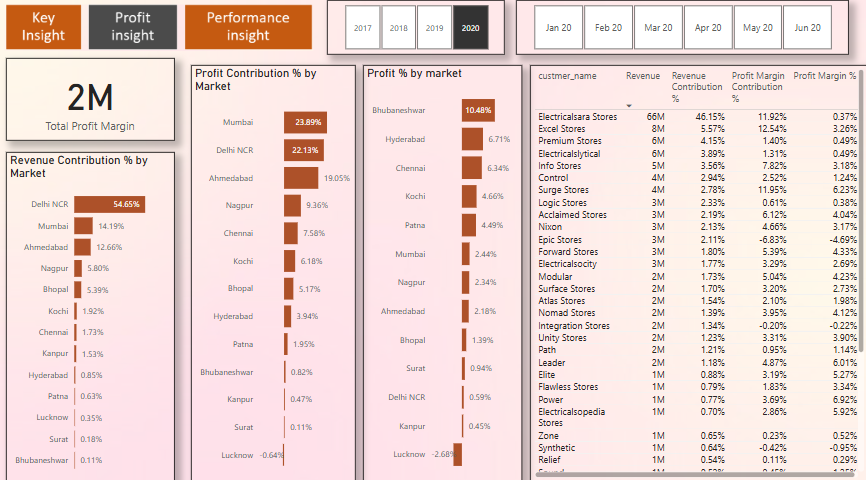

What the dashboard file says about the page in this screenshot:
{"tool":"powerbi","page":{"name":"Profit Analysis","canvas":[1280,720],"ordinal":1},"visuals":[{"type":"barChart","title":"Profit % by market","fields":{"Category":["sales markets.markets_name"],"Y":["BaseMeasure.Profit Margin %"]},"box":[541.5,109.8,232.7,610.2],"z":0},{"type":"barChart","title":"Profit Contribution % by Market","fields":{"Category":["sales markets.markets_name"],"Y":["BaseMeasure.Profit Margin Contribution %"]},"box":[289.8,109.8,241.5,610.2],"z":1000},{"type":"tableEx","title":"Top 5 Customers","fields":{"Values":["sales customers.custmer_name","BaseMeasure.Revenue","BaseMeasure.Revenue Contribution %","BaseMeasure.Profit Margin Contribution %","BaseMeasure.Profit Margin %"]},"box":[785.9,109.8,494.6,610.2],"z":2000},{"type":"card","fields":{"Values":["BaseMeasure.Total Profit Margin"]},"box":[19,99.5,247.3,121.5],"z":3000},{"type":"barChart","title":"Revenue Contribution % by Market","fields":{"Category":["sales markets.markets_name"],"Y":["BaseMeasure.Revenue Contribution %"]},"box":[19,237.1,247.3,482.9],"z":4000},{"type":"image","box":[11.7,10.2,462.4,89.3],"z":5000},{"type":"actionButton","box":[279.5,26.3,184.4,55.6],"z":6000},{"type":"actionButton","box":[19,26.3,109.8,55.6],"z":7000},{"type":"actionButton","box":[19,26.3,109.8,55.6],"z":8000},{"type":"slicer","fields":{"Values":["sales date.date.Variation.Date Hierarchy.Year"]},"box":[488.8,14.6,260.5,80.5],"z":9000},{"type":"slicer","fields":{"Values":["sales date.cy_date"]},"box":[765.4,14.6,487.3,80.5],"z":10000}]}

Visuals, with their boxes in screenshot pixels (x1, y1, x2, y2), scaled from the page's 1280x720 canvas onto the 866x480 screenshot:
"Profit % by market" barChart: box=[366, 73, 524, 479]
"Profit Contribution % by Market" barChart: box=[196, 73, 359, 479]
"Top 5 Customers" tableEx: box=[532, 73, 865, 479]
card - BaseMeasure.Total Profit Margin: box=[13, 66, 180, 147]
"Revenue Contribution % by Market" barChart: box=[13, 158, 180, 479]
image: box=[8, 7, 321, 66]
actionButton: box=[189, 18, 314, 55]
actionButton: box=[13, 18, 87, 55]
actionButton: box=[13, 18, 87, 55]
slicer - sales date.date.Variation.Date Hierarchy.Year: box=[331, 10, 507, 63]
slicer - sales date.cy_date: box=[518, 10, 848, 63]
